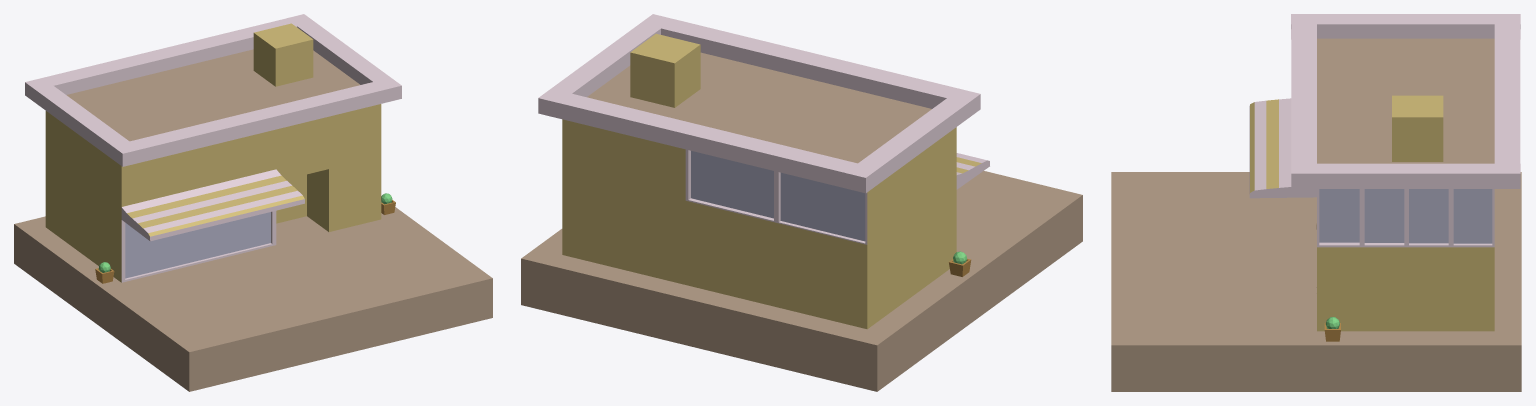
Rendered from building_coffee_yellow.fbx.
3 renders of one model, left to right at view 1: azimuth 30°, elevation 25°; view 2: azimuth 150°, elevation 25°; view 3: azimuth 270°, elevation 25°, orthographic. The views are drawn at different scales.
Visible parts, largest first — view 1: Cube.001; view 2: Cube.001; view 3: Cube.001.
Boxes of the visible parts, x1,y1,x2,y2 form: Cube.001: [14, 14, 492, 391]; Cube.001: [521, 14, 1082, 391]; Cube.001: [1111, 14, 1521, 391].
Bounding box in the file's own units: 1600 × 1034 × 1600.
